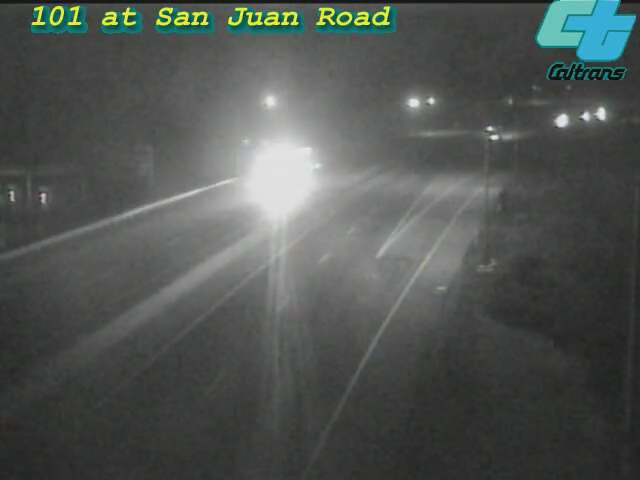vehicle: (229, 137, 309, 217), (535, 98, 585, 148), (468, 107, 518, 157), (575, 89, 625, 139), (559, 92, 609, 142)
